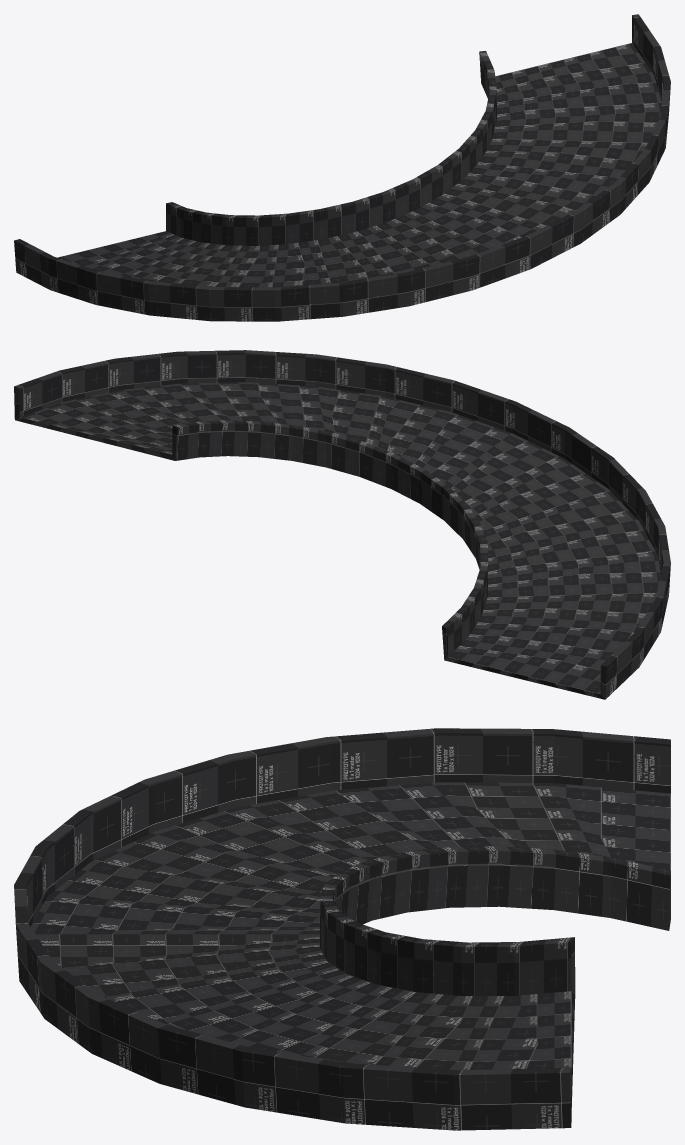
Rendered from ramp.fbx.
3 views of the same model, one above another, from view 1: azimuth 30°, elevation 25°; view 2: azimuth 150°, elevation 25°; view 3: azimuth 270°, elevation 25° (orthographic). The views are drawn at different scales.
Parts seen in each view (by area): view 1: Plane; view 2: Plane; view 3: Plane.
Boxes of the visible parts, x1,y1,x2,y2 form: Plane: (14, 14, 670, 321); Plane: (14, 350, 670, 699); Plane: (14, 728, 670, 1130).
Bounding box in the file's own units: 2450 × 527 × 1325.
